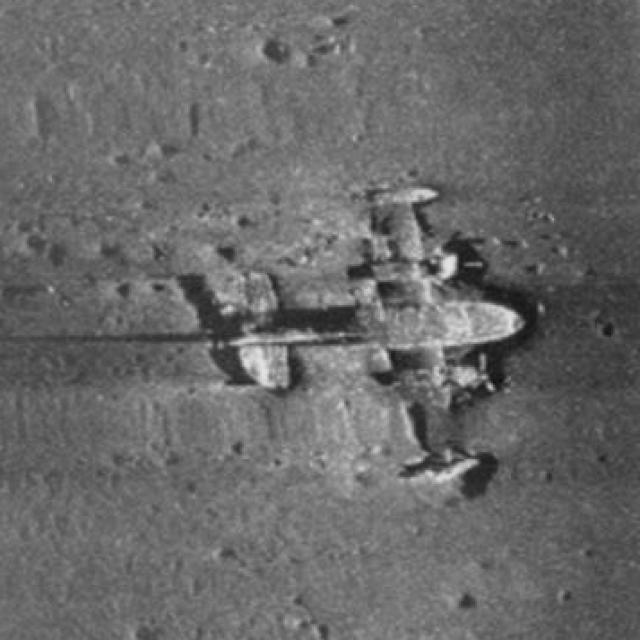plane: (183, 156, 538, 516)
